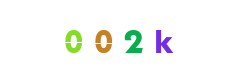0: (49, 0, 129, 80), (85, 0, 165, 80)
2: (94, 0, 174, 80)
K: (122, 0, 202, 80)
